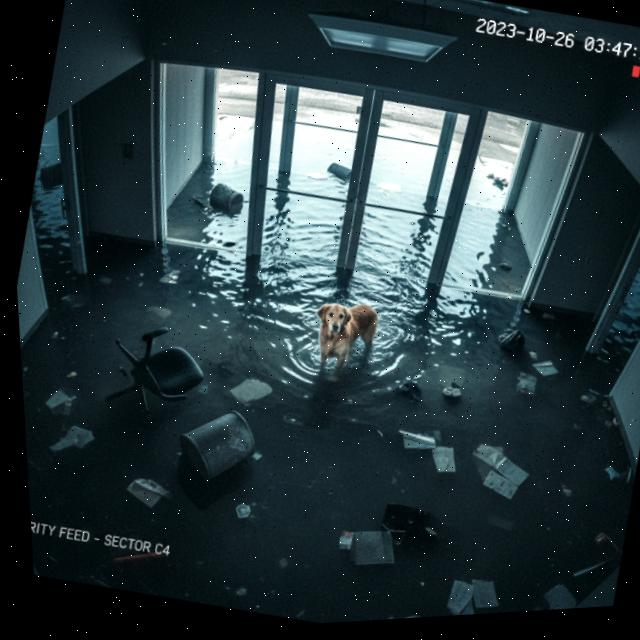dog: (288, 279, 402, 392)
